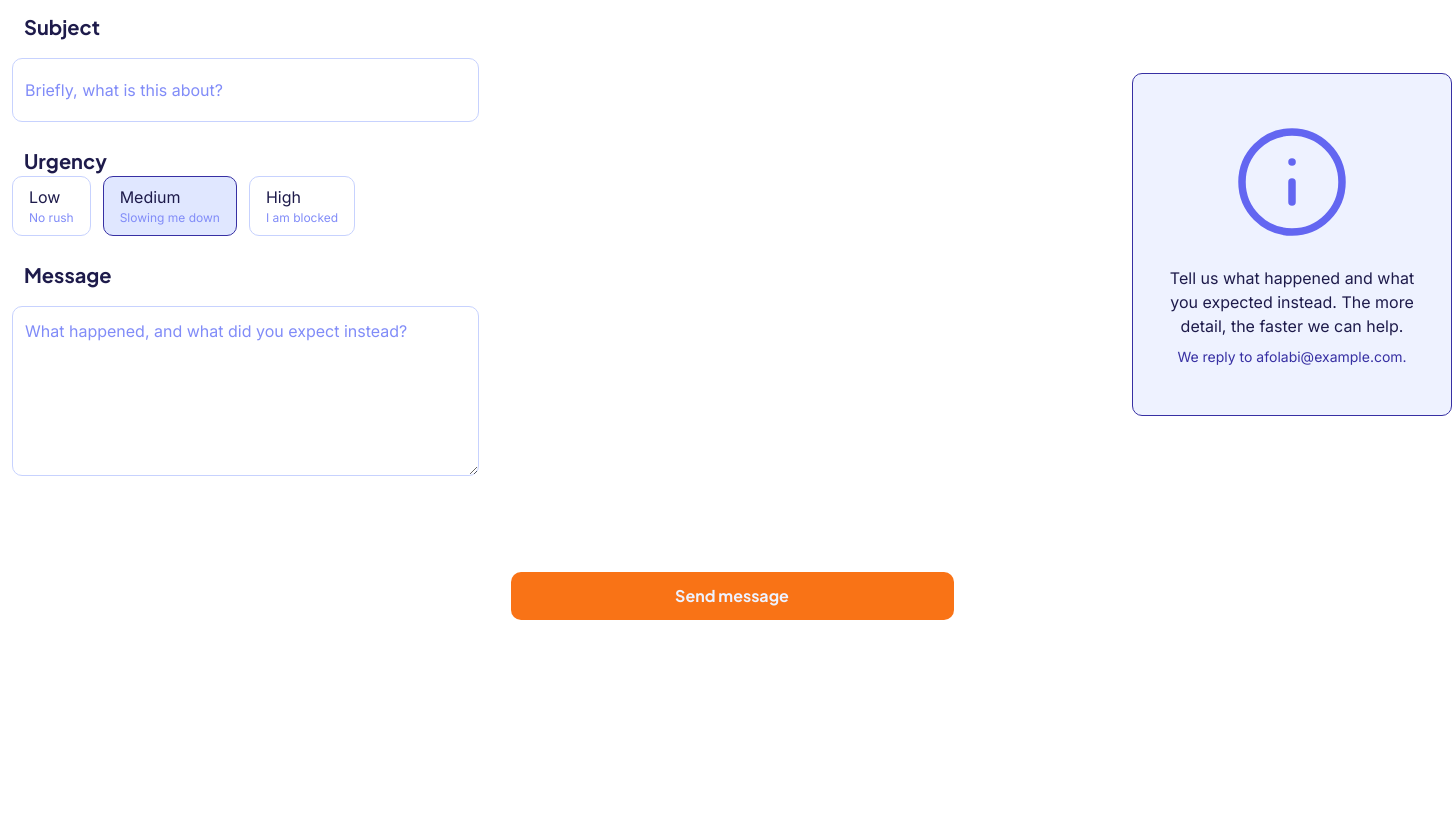
Test: ContactSupportForm — sending › confirms delivery and names where the reply goes
Type "Cannot open my quiz" into the field labelled "Subject" at [246, 90], box [12, 58, 479, 122]
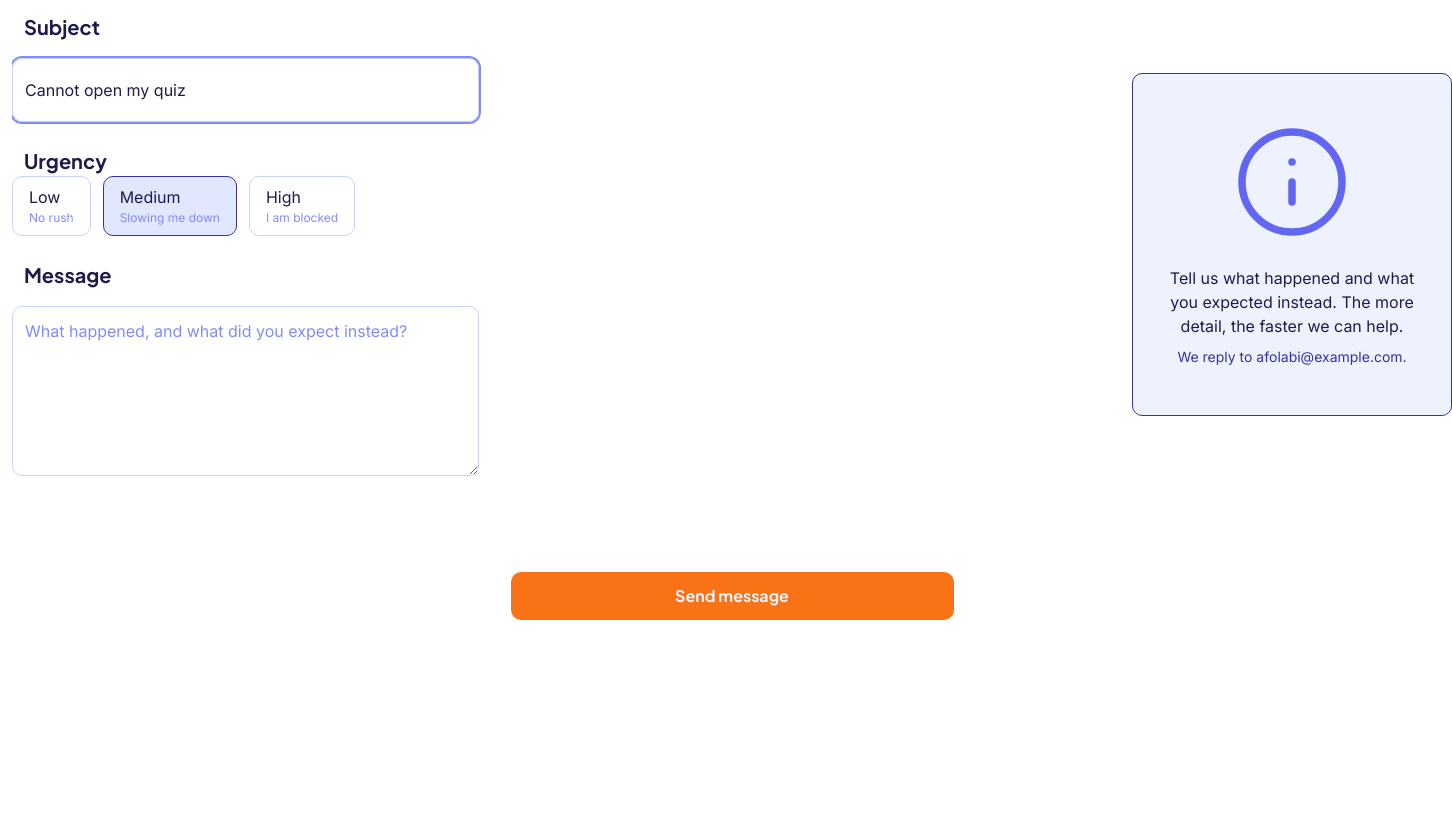
Type "The quiz page has been loading forever since yesterday evening." into the text box labelled "Message" at [246, 391], box [12, 306, 479, 476]
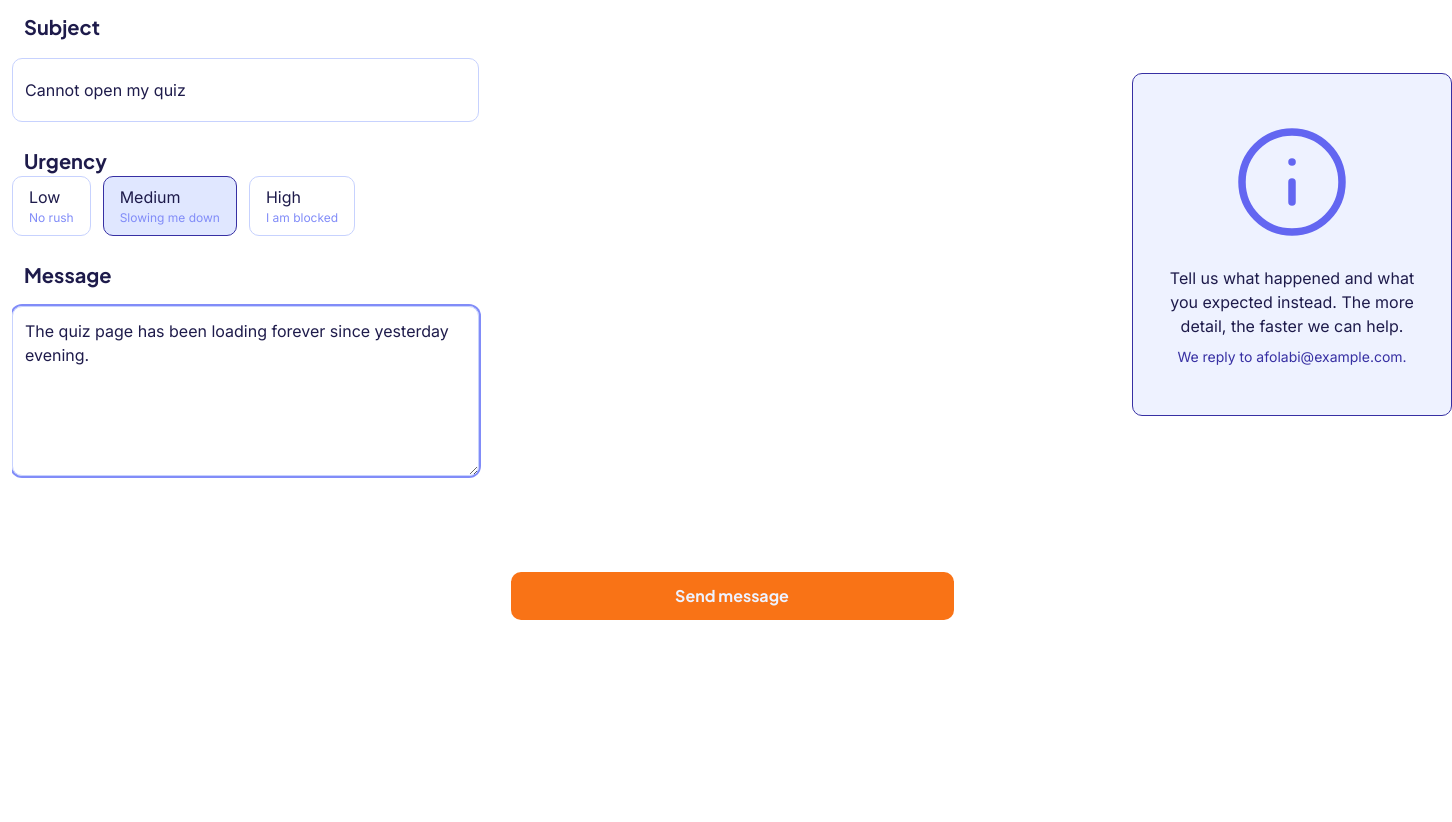
Click the button "Send message" at [732, 596], box [510, 572, 954, 620]
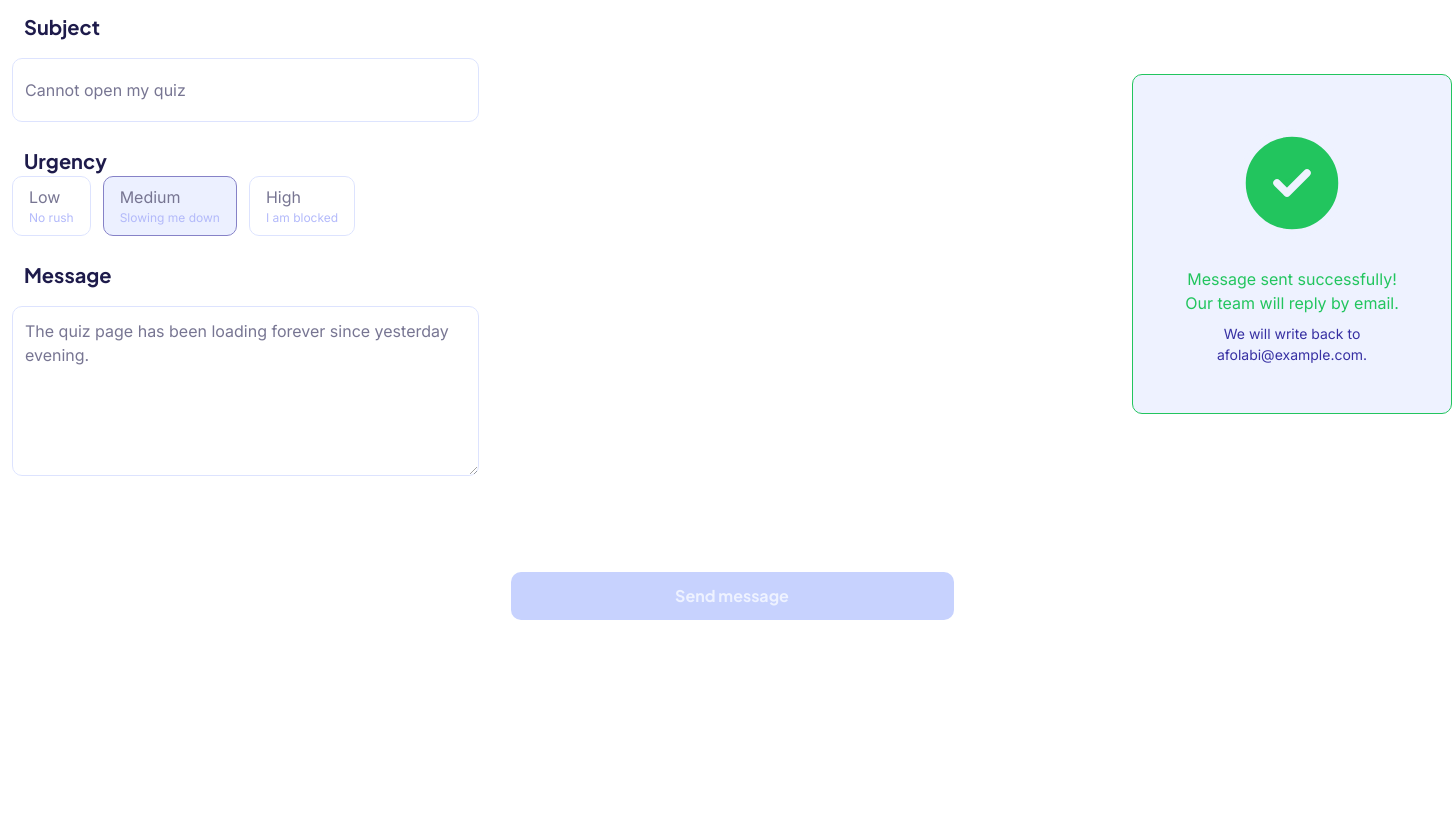
expect the message shows "Message sent successfully": met, box [1185, 269, 1399, 313]
